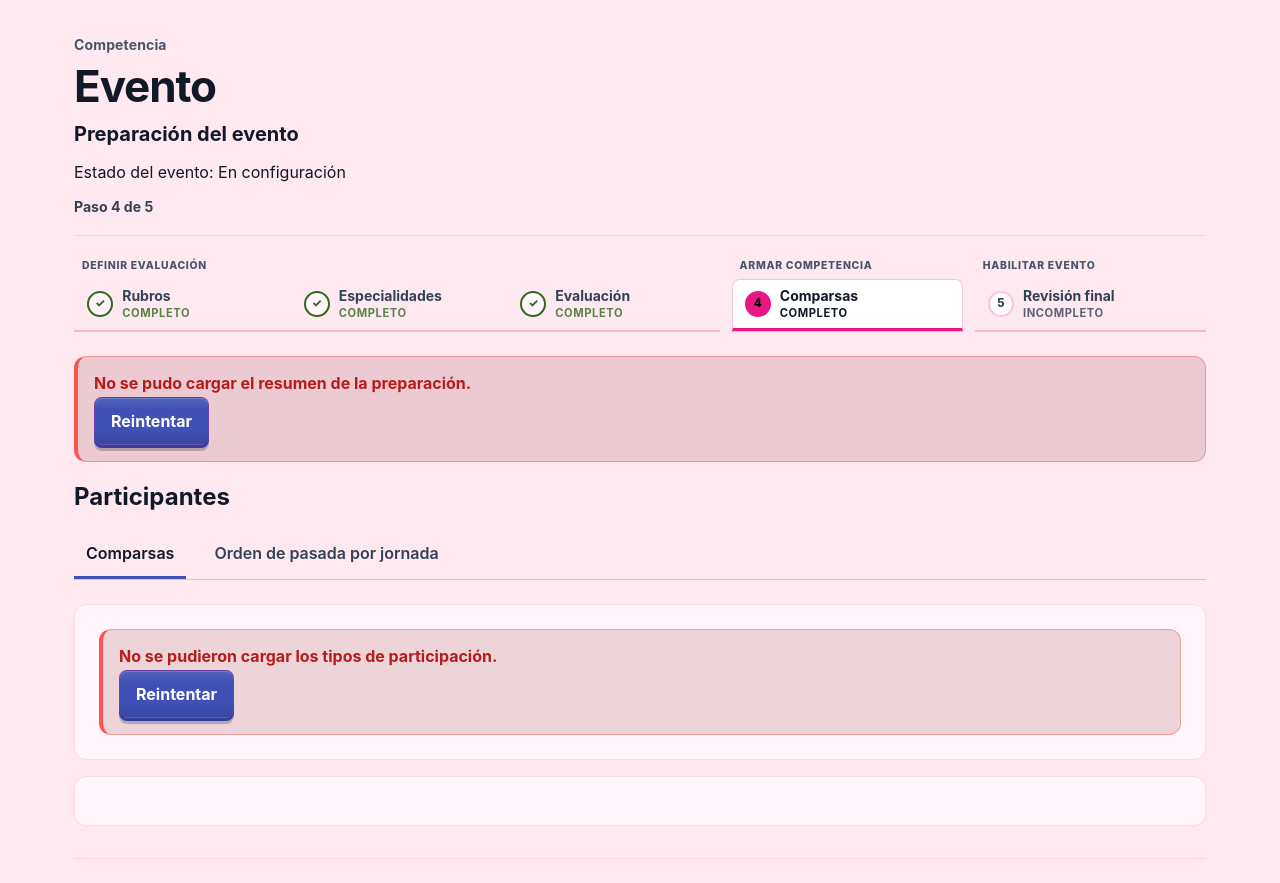
Test: AdminCompetenciaPage: errores de carga con Reintentar (spec 040 T3) › sección Tipos de participación: error con reintento, sin «Todavía no hay»
expect the message "No se pudieron cargar los tipos de participación. Reintentar" is shown: met, box [99,629,1181,735]
Click the button "Reintentar" below "Participantes" at point(177, 694), box [119,670,234,718]
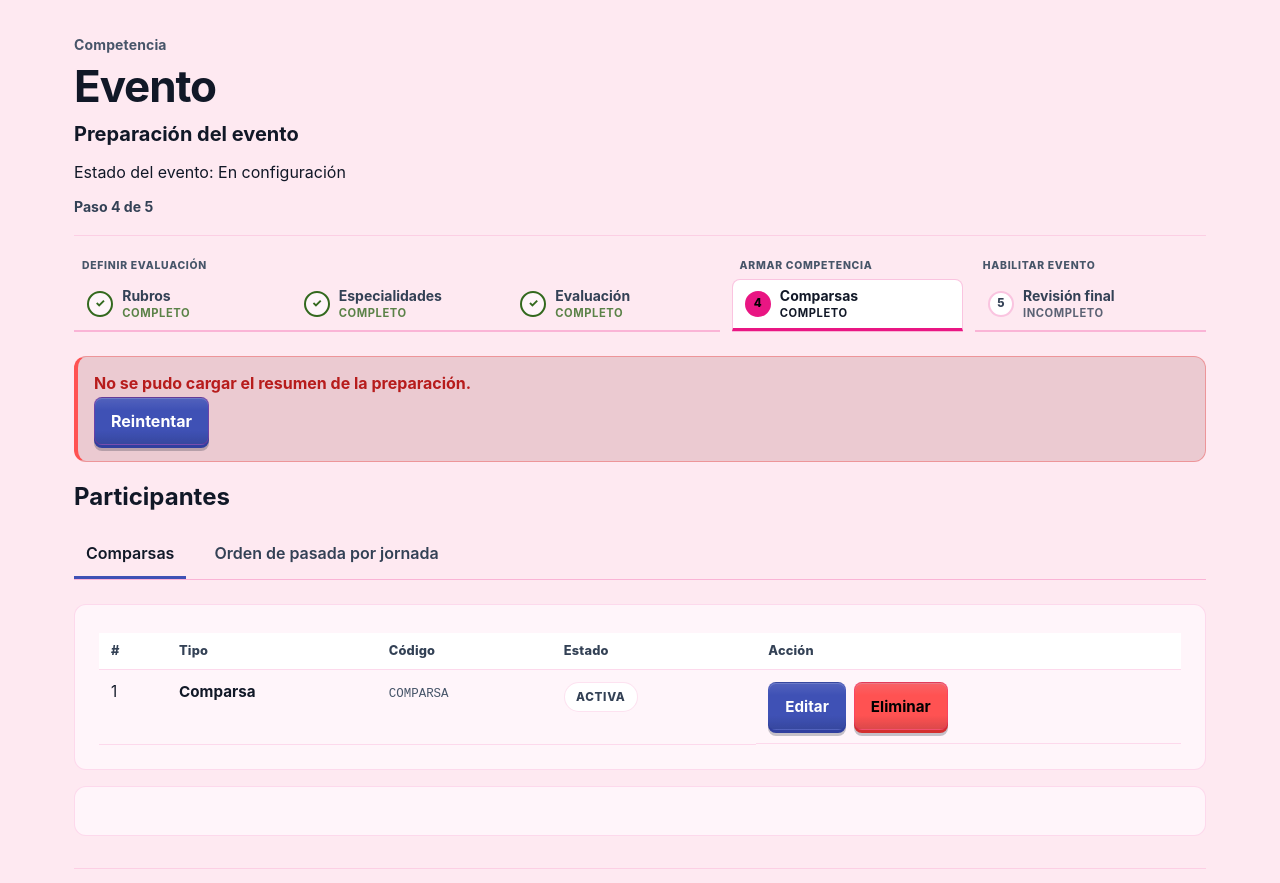
expect the text "Comparsa" is shown: met, box [179,682,256,702]
